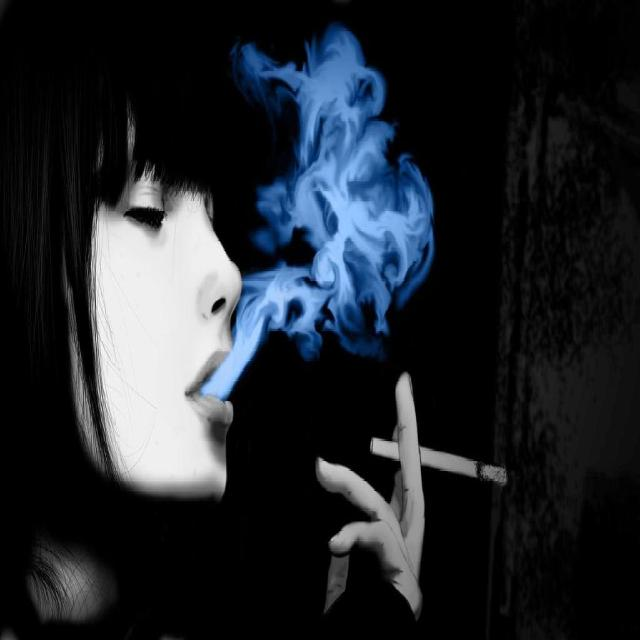smoking: (114, 132, 508, 488)
